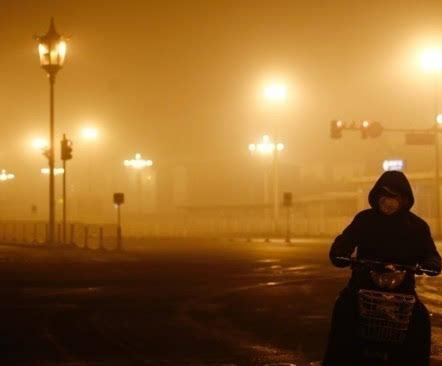car: (325, 169, 442, 362)
motorbike: (333, 251, 438, 366)
